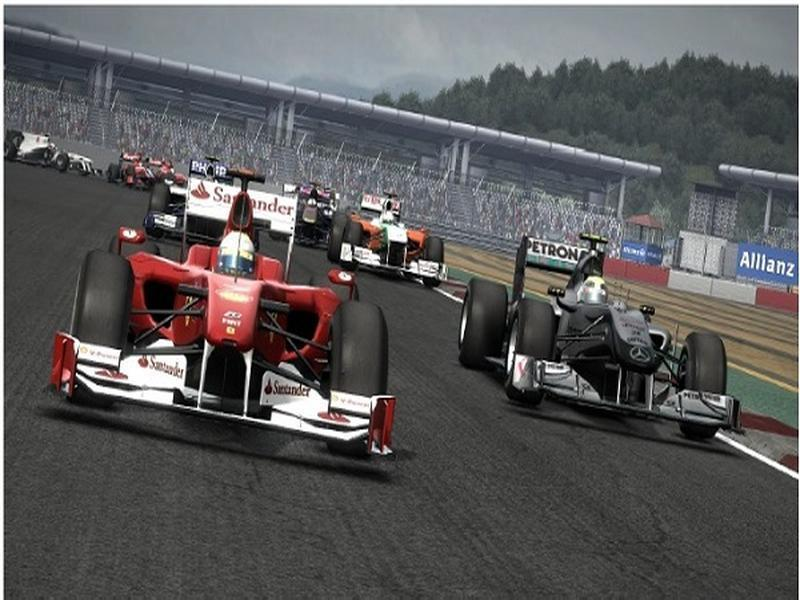f1: (75, 169, 405, 473), (446, 224, 768, 446), (333, 184, 458, 278)
